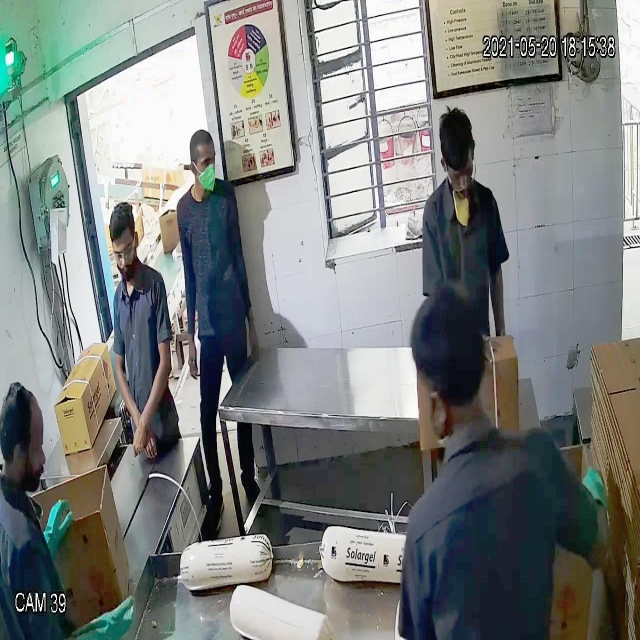Gafas: (440, 149, 480, 196), (109, 236, 142, 264)
Sin_gafas: (186, 149, 223, 180)
